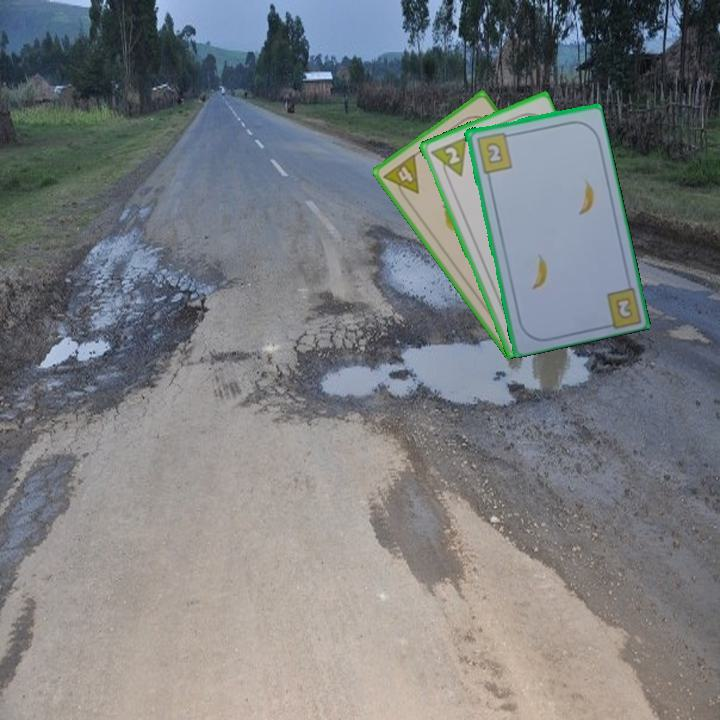2b: (473, 128, 515, 176), (614, 296, 633, 320)
2p: (427, 133, 469, 184)
4p: (379, 150, 422, 204)
